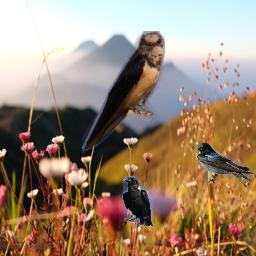Crow: (122, 176, 154, 228)
Swallow: (82, 31, 165, 154), (197, 143, 254, 184)
